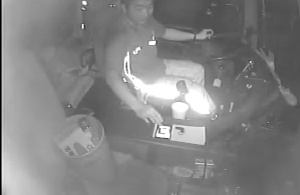cup: (169, 101, 189, 120)
